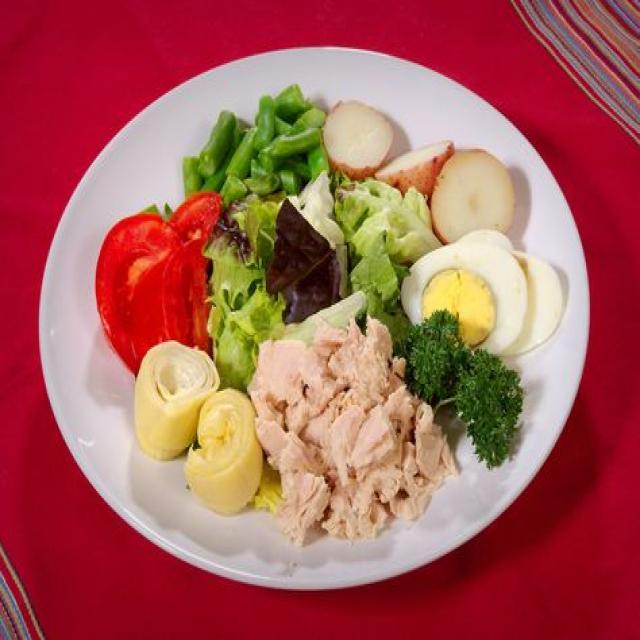Chicken: (250, 319, 456, 542)
Egg: (402, 230, 563, 356)
Green veg: (184, 84, 523, 466)
Non green veg: (95, 193, 220, 372)
